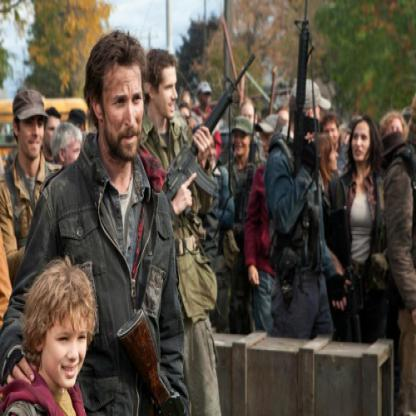Gun: (162, 47, 260, 270), (288, 0, 320, 234), (330, 201, 367, 354)
